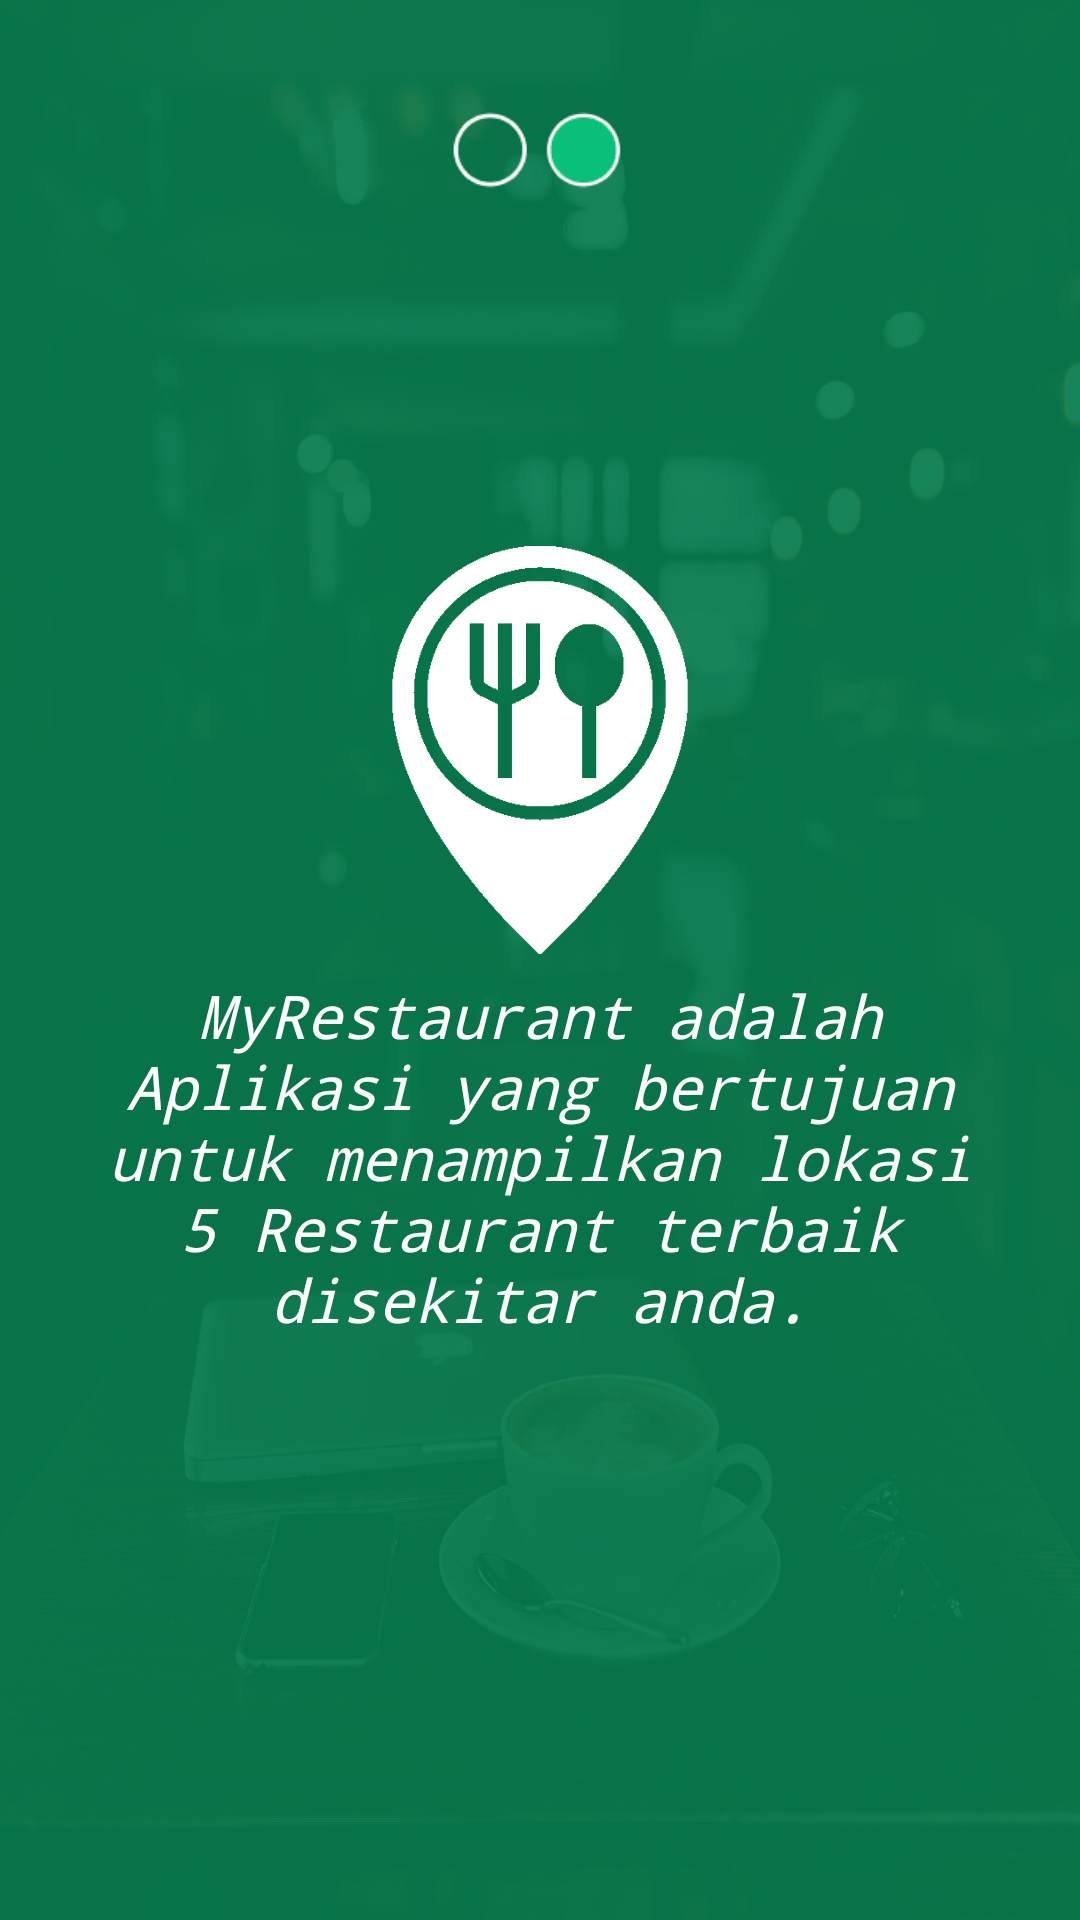

Icon click points for this 1080*1920 phone screenshot, format point (x, y):
indicator: point (537, 150)
